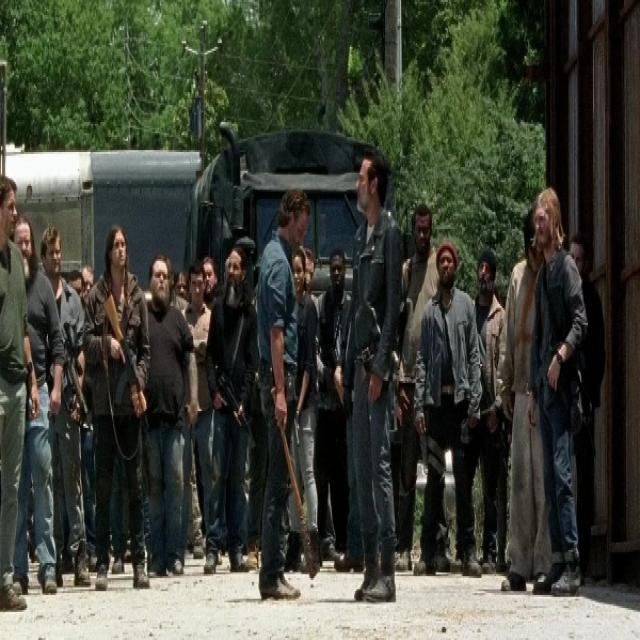rifle: (102, 293, 158, 456)
